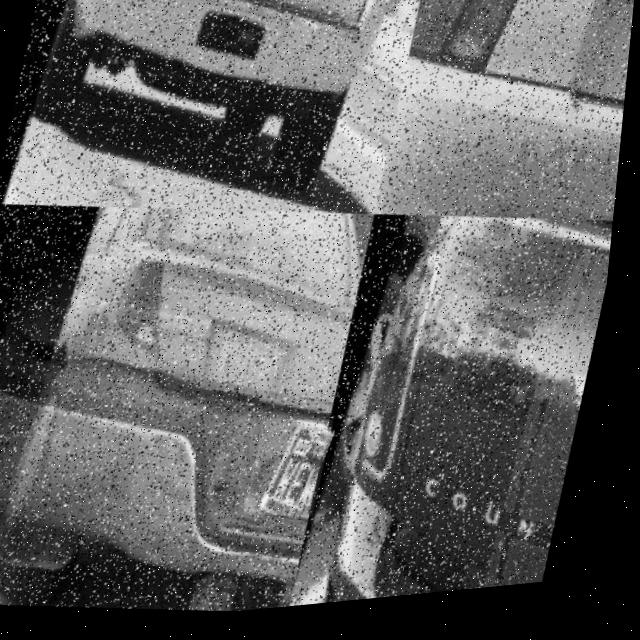LicensePlate: (253, 419, 343, 530), (210, 0, 279, 5)
